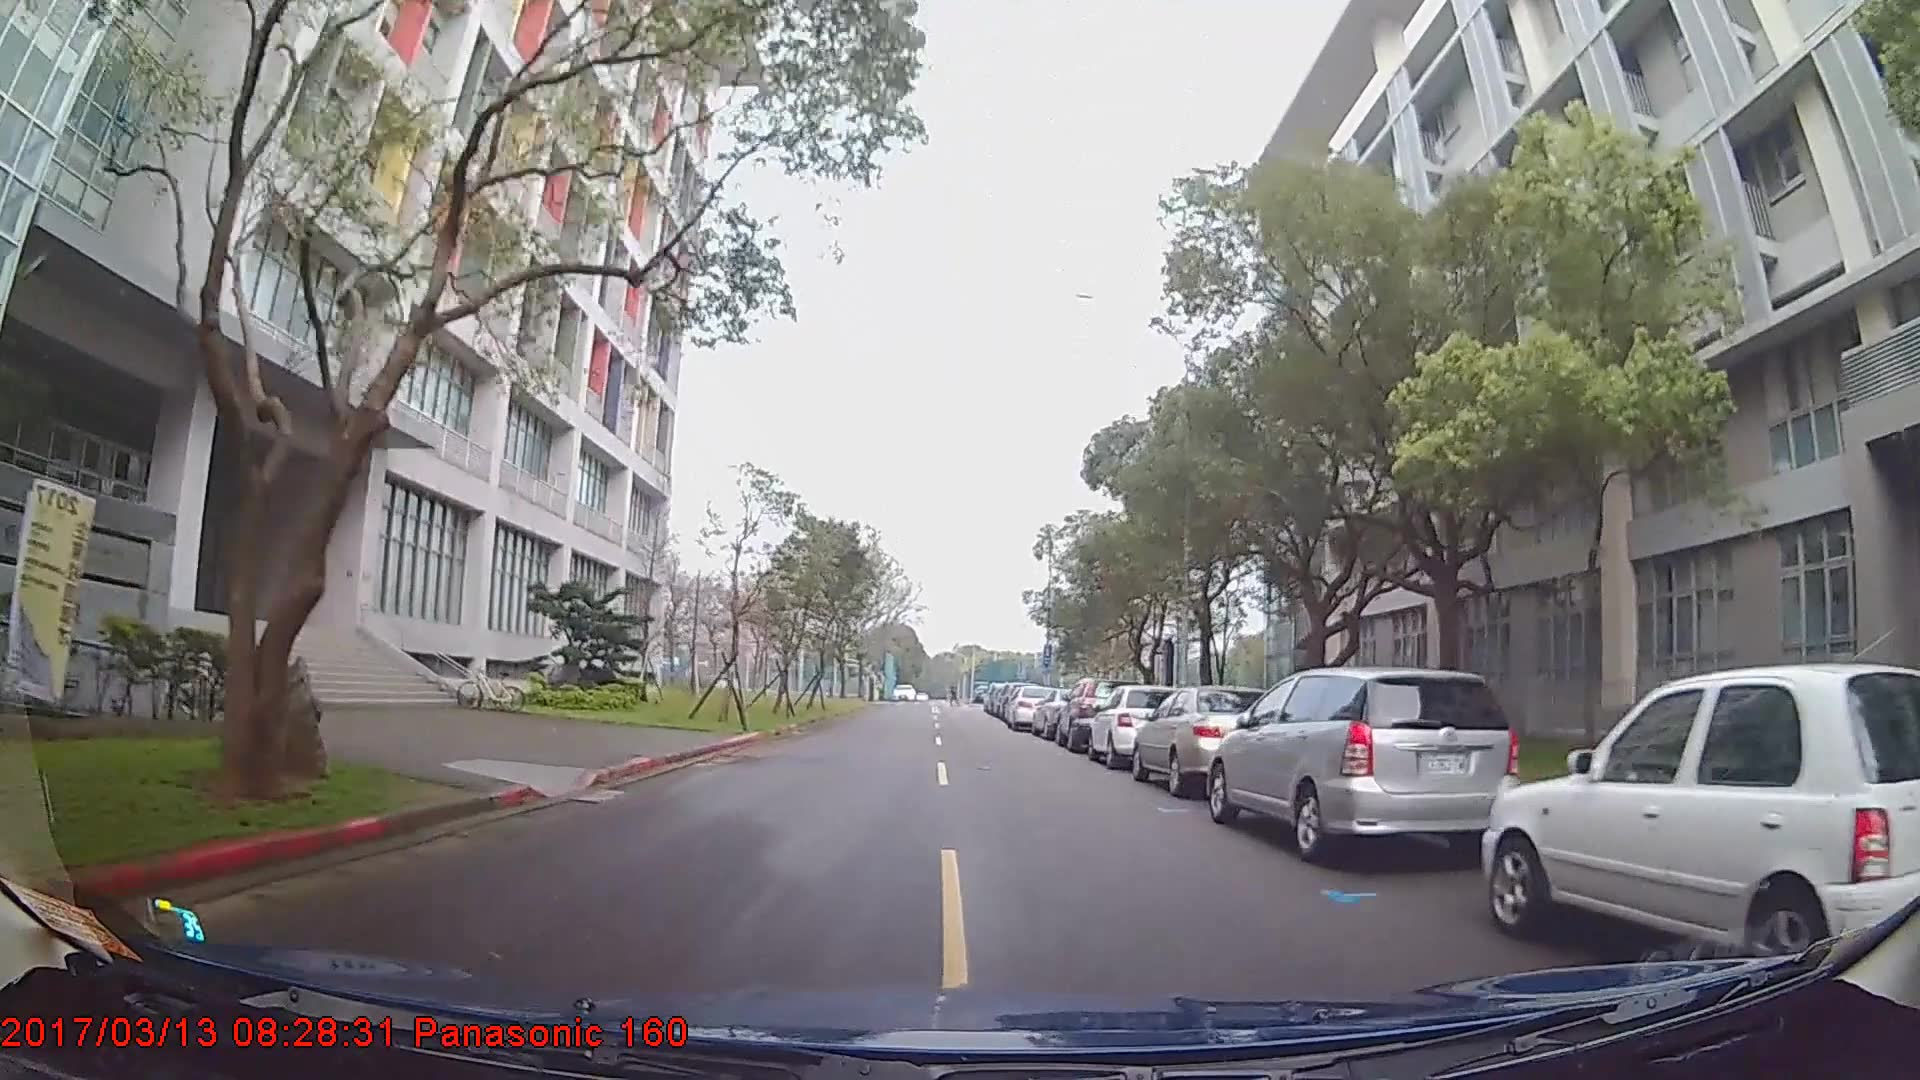vehicle: (1482, 659, 1920, 969), (1205, 665, 1520, 858), (1130, 683, 1288, 794), (1087, 683, 1182, 767), (1055, 678, 1135, 752), (1004, 680, 1062, 731)
